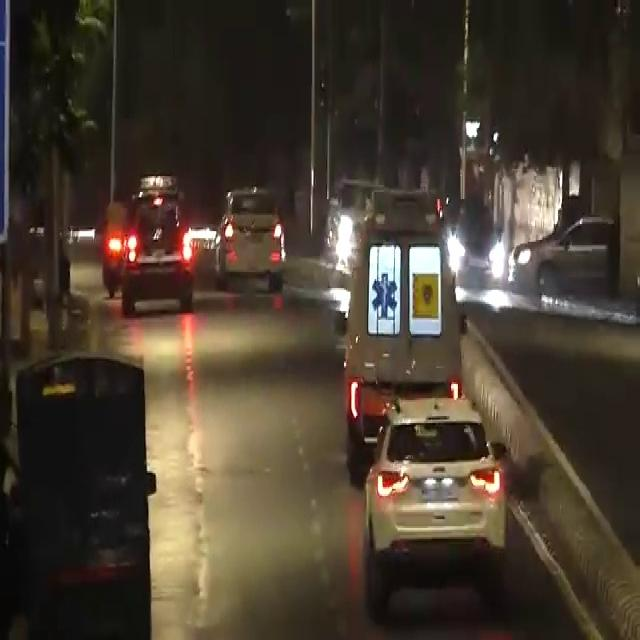ambulance: (359, 192, 453, 422)
